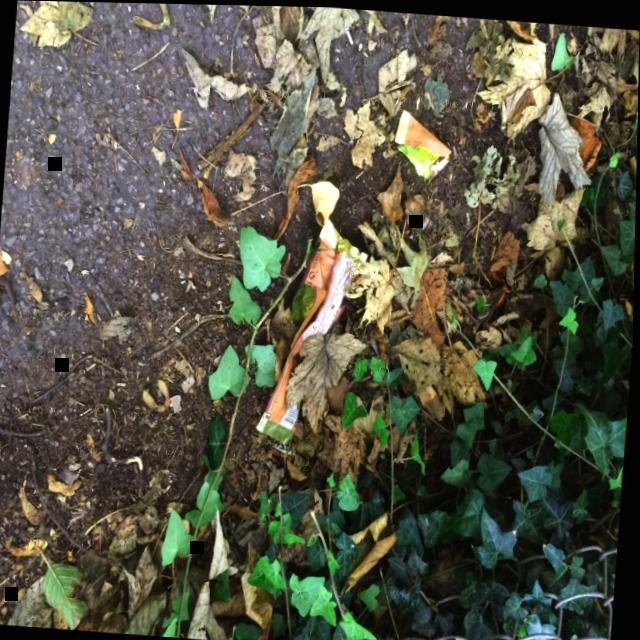Other plastic: (257, 216, 368, 453), (394, 108, 451, 179)
